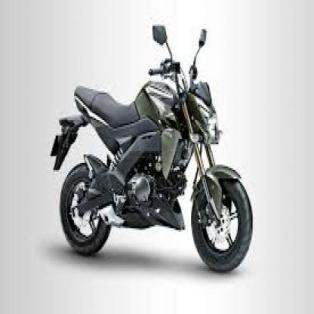Motocicleta: (47, 10, 256, 274)
